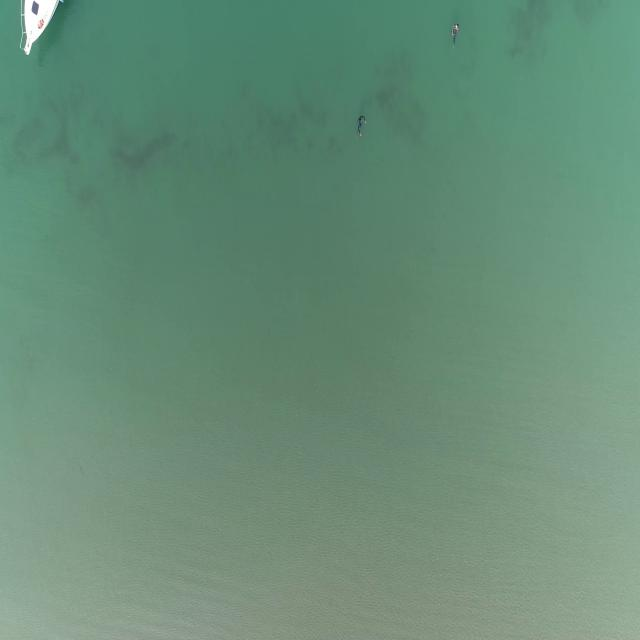boat: (19, 0, 62, 59)
person: (450, 20, 462, 48), (355, 114, 369, 137)
